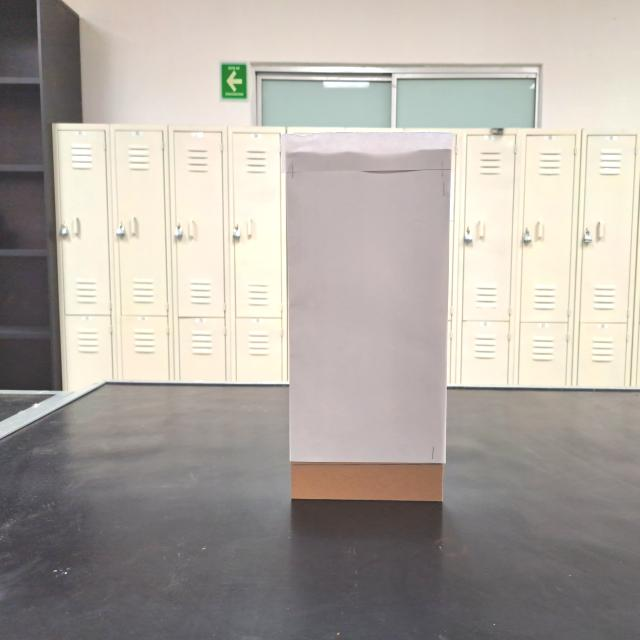wall: (277, 126, 459, 513)
